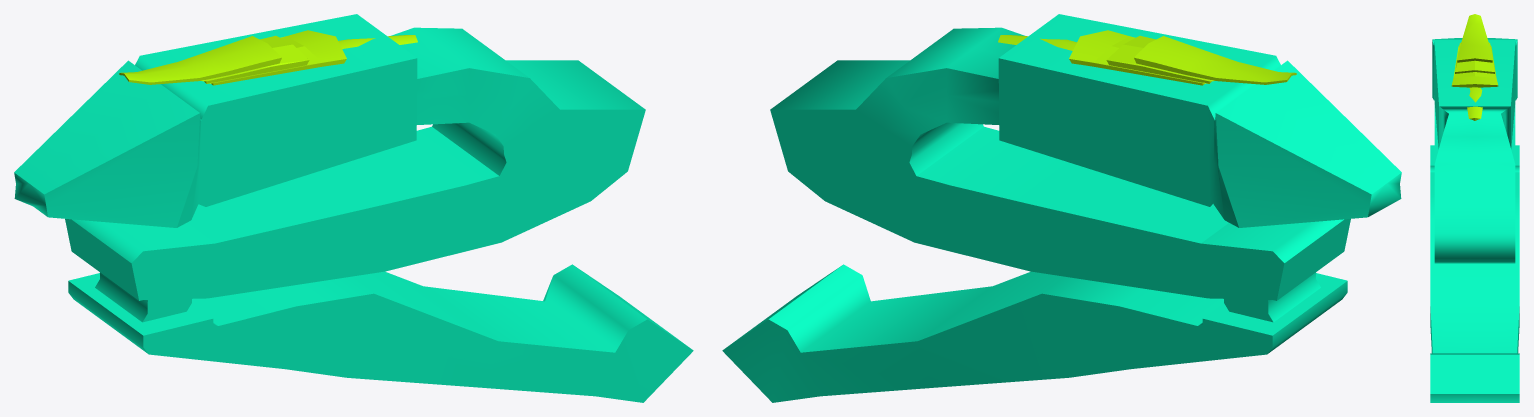
Rendered from Weird_Gun.fbx.
The picture shows the model from 3 angles, left to right: view 1: azimuth 30°, elevation 25°; view 2: azimuth 150°, elevation 25°; view 3: azimuth 270°, elevation 25°; orthographic projection. The views are drawn at different scales.
Visible parts, largest first — view 1: pCube2, pCube3; view 2: pCube2, pCube3; view 3: pCube2, pCube3.
Boxes of the visible parts, <box> form: pCube2: <box>14,14,693,402</box>; pCube3: <box>119,30,417,85</box>; pCube2: <box>722,14,1401,402</box>; pCube3: <box>998,30,1296,85</box>; pCube2: <box>1430,38,1519,402</box>; pCube3: <box>1451,14,1498,120</box>.
Bounding box in the file's own units: 42.42 × 26.5 × 8.61.
